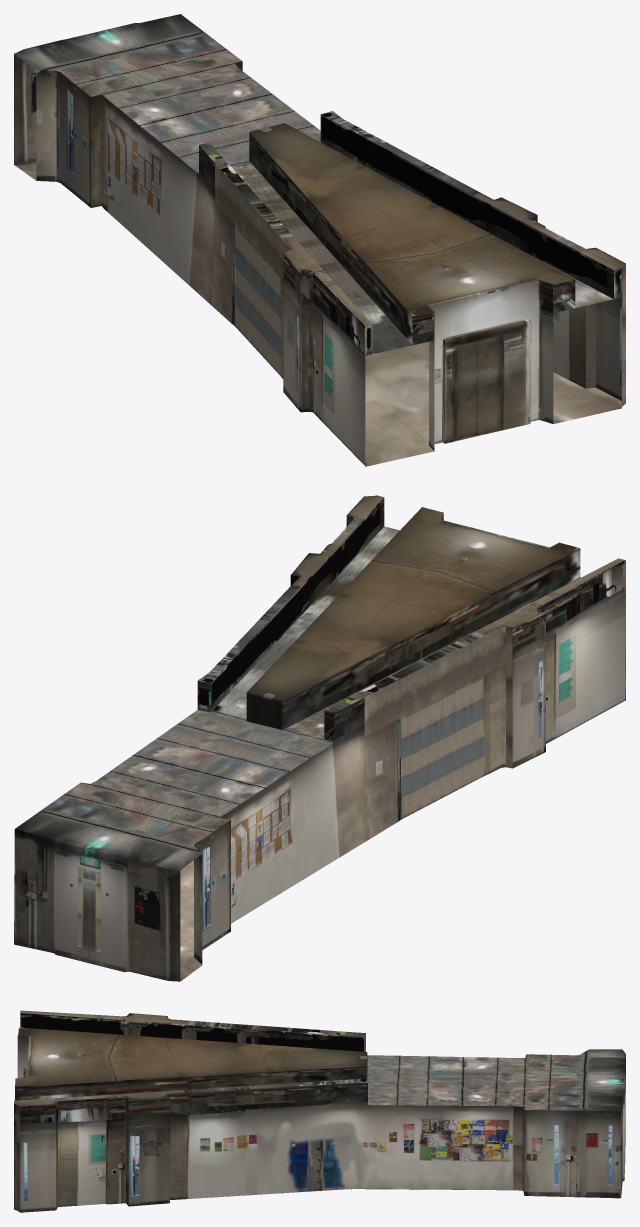
Rendered from 1corr-back-isnide-IM.fbx.
The picture shows the model from 3 angles, top to bottom: view 1: azimuth 30°, elevation 25°; view 2: azimuth 150°, elevation 25°; view 3: azimuth 270°, elevation 25°; orthographic projection. The views are drawn at different scales.
Parts seen in each view (by area): view 1: 1corr-back-isnide-IM; view 2: 1corr-back-isnide-IM; view 3: 1corr-back-isnide-IM.
Part boxes in pixels (left/top/right/bottom): 1corr-back-isnide-IM: left=14, top=14, right=625, bottom=466; 1corr-back-isnide-IM: left=14, top=495, right=625, bottom=981; 1corr-back-isnide-IM: left=14, top=1010, right=625, bottom=1212.
Bounding box in the file's own units: 623 × 330 × 1671.
1 material, 1 textured.
